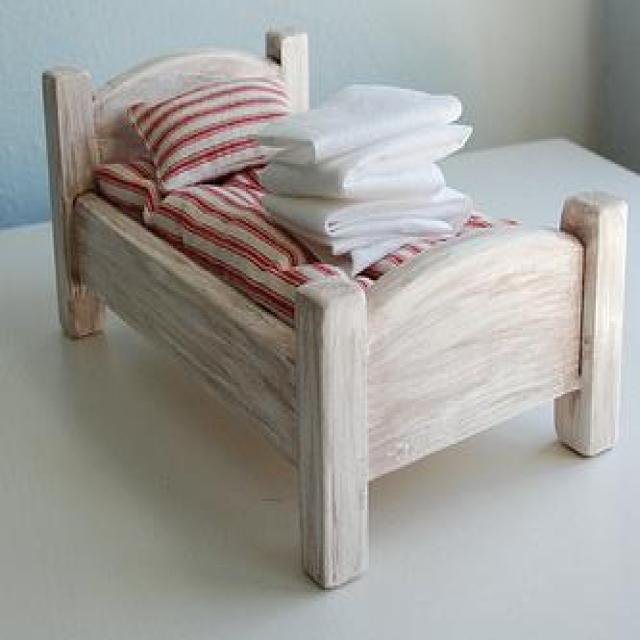bed: (39, 30, 636, 590)
